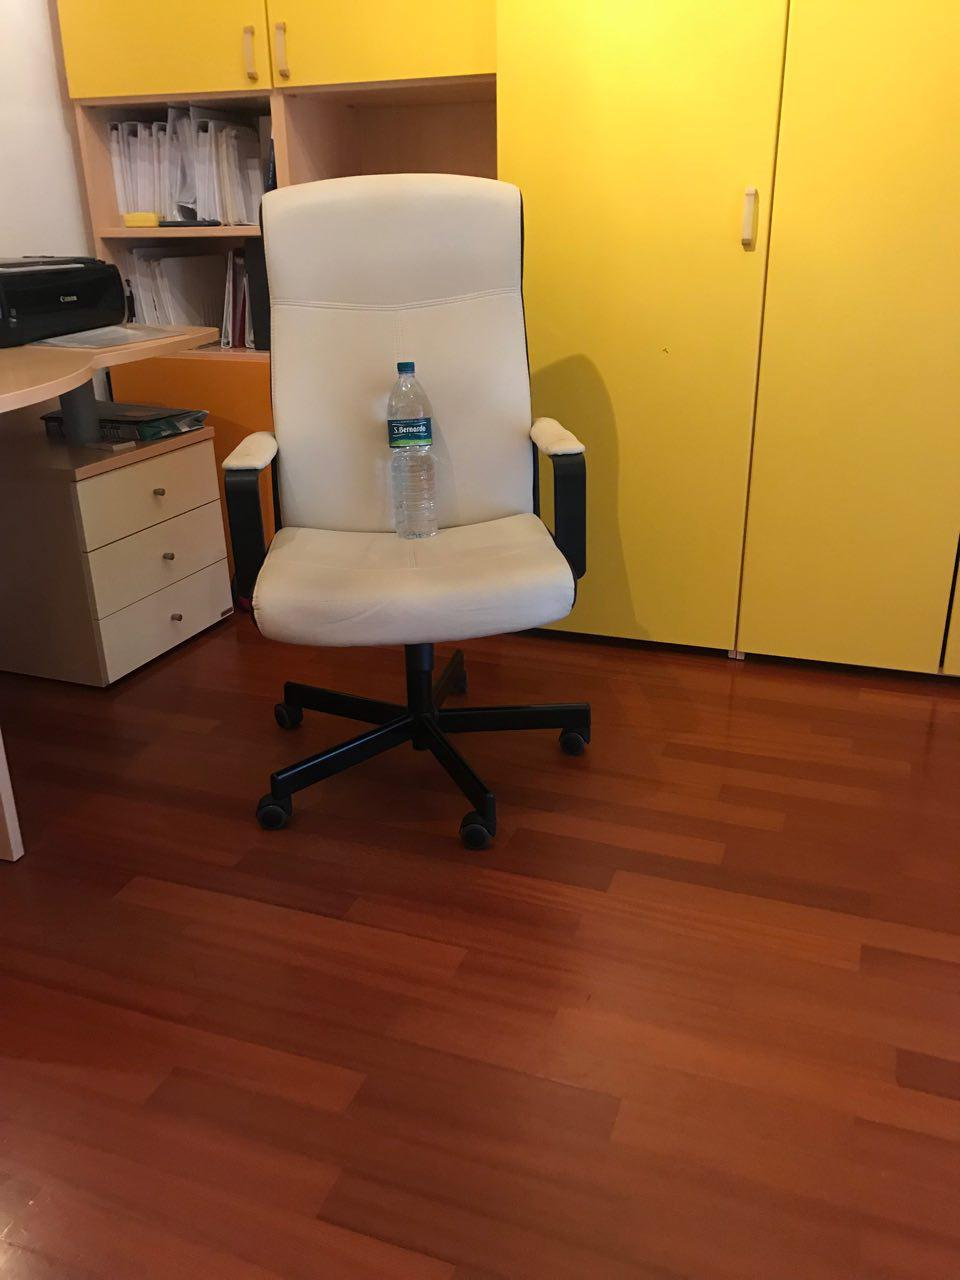san_bernardo: (386, 361, 440, 540)
